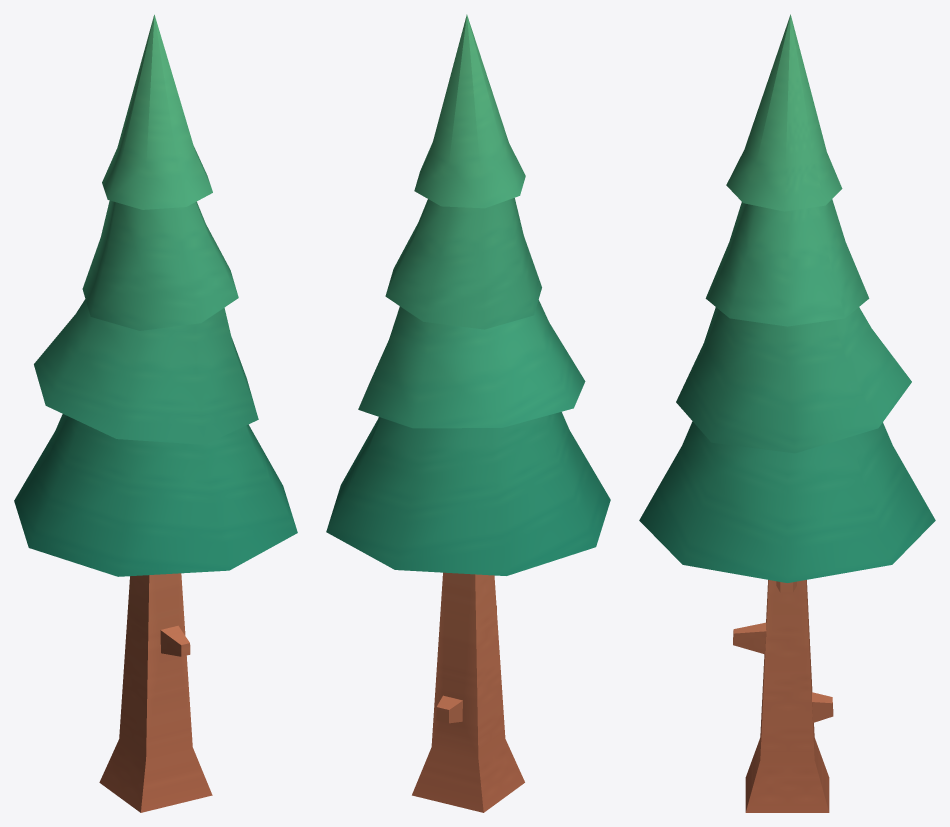
Rendered from treeHighCrooked.fbx.
3 renders of one model, left to right at view 1: azimuth 30°, elevation 25°; view 2: azimuth 150°, elevation 25°; view 3: azimuth 270°, elevation 25°, orthographic.
Parts seen in each view (by area): view 1: treeHighCrooked; view 2: treeHighCrooked; view 3: treeHighCrooked.
Boxes of the visible parts, left/top/right/bottom form: treeHighCrooked: left=14, top=14, right=297, bottom=812; treeHighCrooked: left=326, top=14, right=610, bottom=812; treeHighCrooked: left=639, top=14, right=935, bottom=812.
Size of the model in its own units: 1.02 by 1.02 by 2.97.
